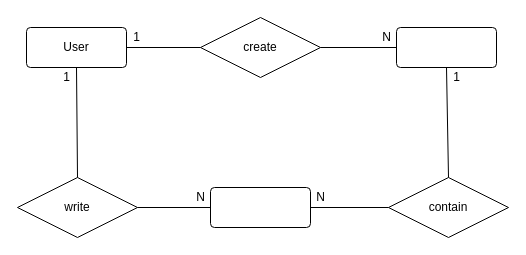
Image size: 526x255. Some labels were removed from this diagram. The shapes that lost their labels are listed below. From the top down, each one's centre as x and y in pixels, then its label:
At point 446,47: "Post".
At point 260,207: "Comment".
